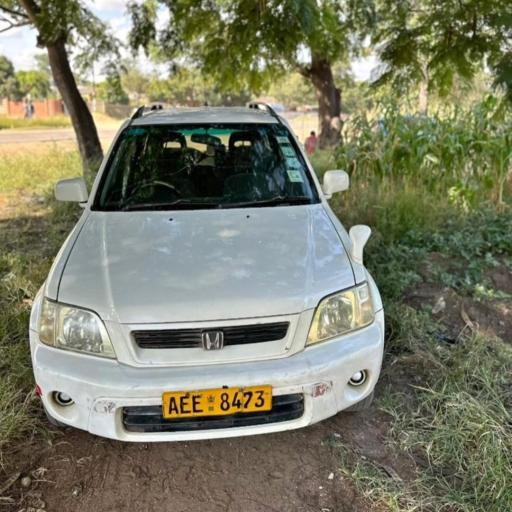number-plates: (162, 389, 271, 416)
